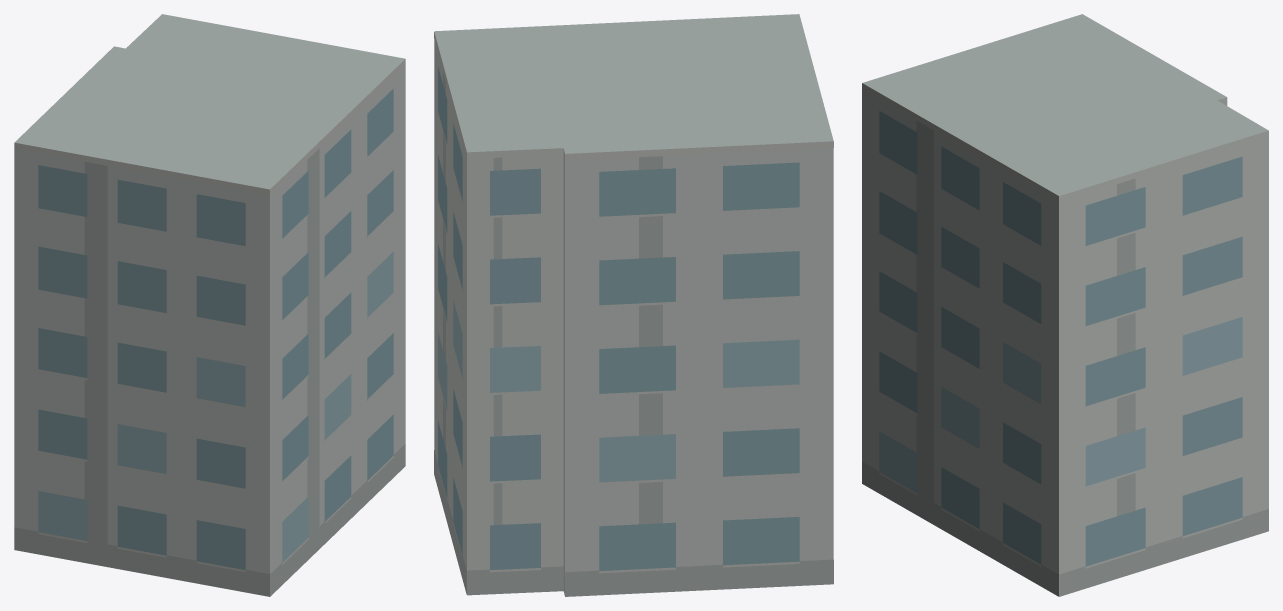
The model's file is survey-upis-32774067.glb.
3 renders of one model, left to right at view 1: azimuth 30°, elevation 25°; view 2: azimuth 150°, elevation 25°; view 3: azimuth 270°, elevation 25°, orthographic. The views are drawn at different scales.
Parts seen in each view (by area): view 1: survey-upis-32774067.tmp; view 2: survey-upis-32774067.tmp; view 3: survey-upis-32774067.tmp.
Part boxes in pixels (left/top/right/bottom): survey-upis-32774067.tmp: left=14, top=14, right=405, bottom=596; survey-upis-32774067.tmp: left=434, top=14, right=833, bottom=596; survey-upis-32774067.tmp: left=862, top=14, right=1268, bottom=596.
Bounding box in the file's own units: 15.5 × 15.9 × 14.63.
